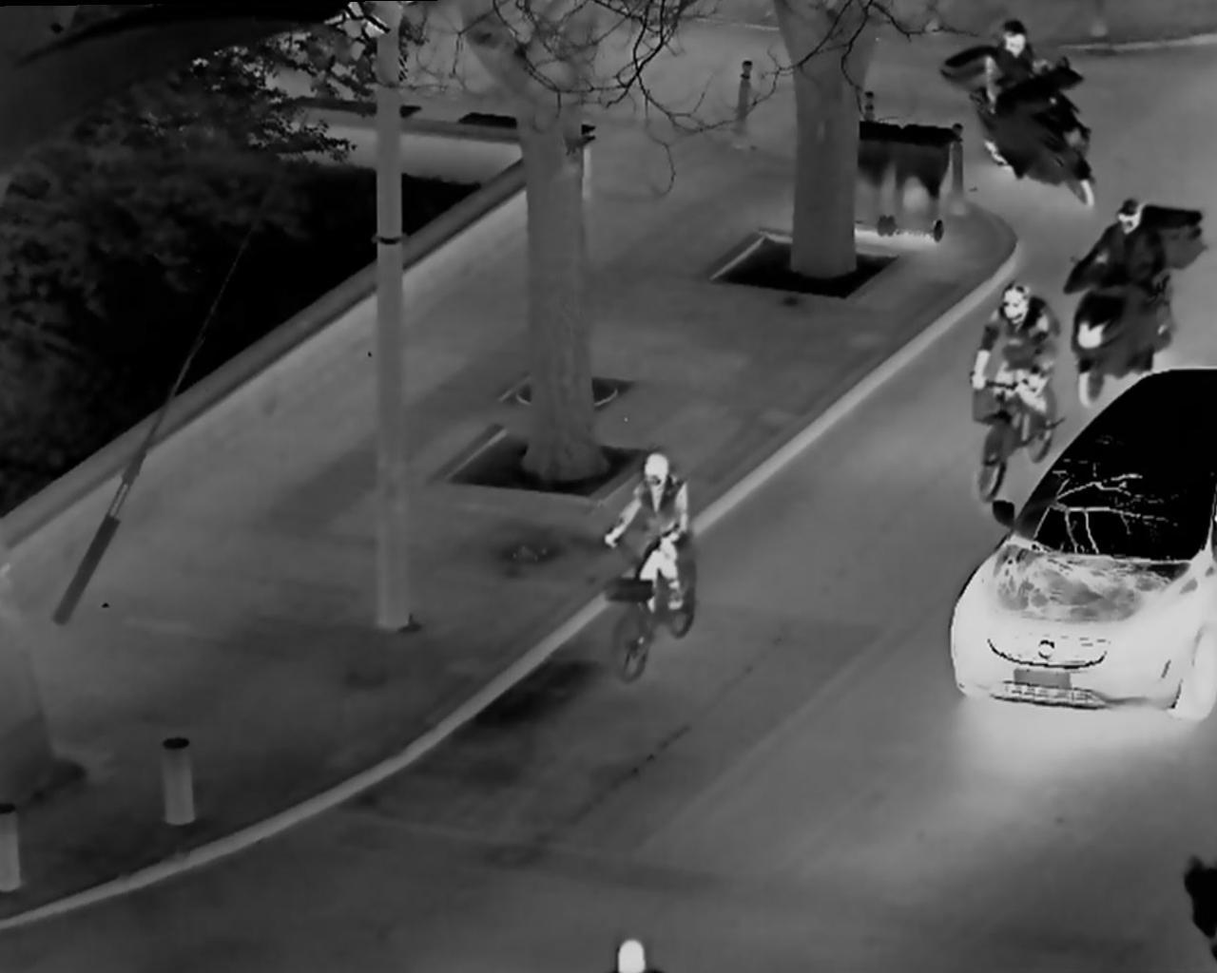person: (595, 431, 720, 666), (1084, 180, 1175, 370), (976, 275, 1053, 498), (977, 12, 1068, 184), (605, 932, 658, 973)
